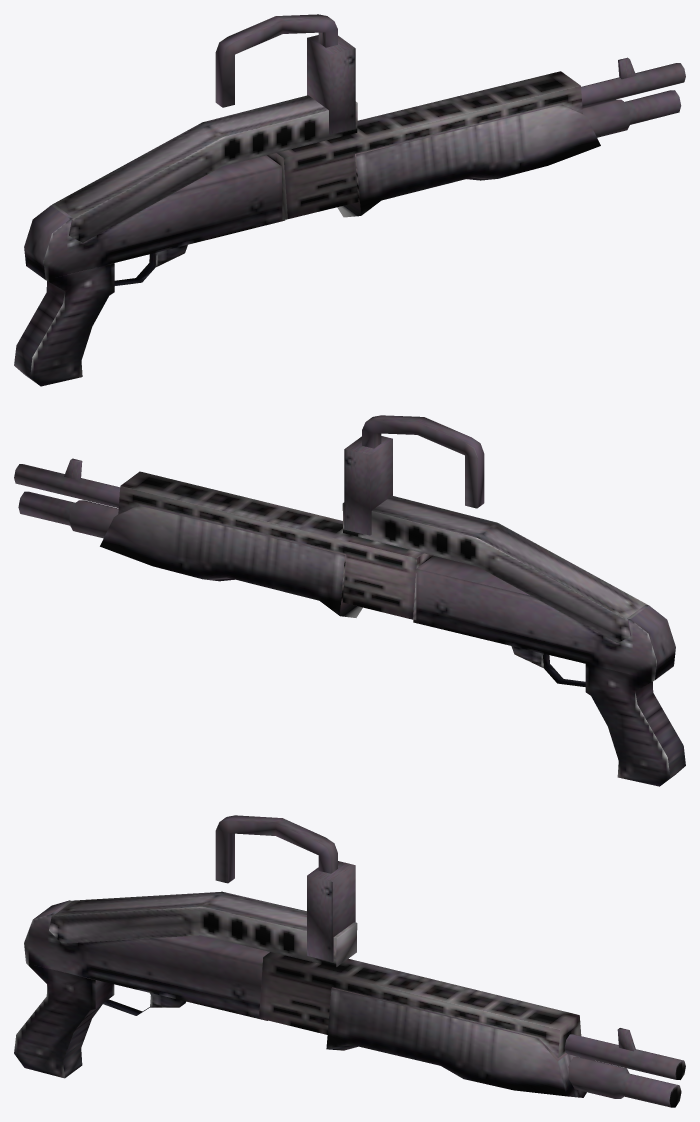
Rendered from icon1.ico.obj.
The picture shows the model from 3 angles, top to bottom: view 1: azimuth 30°, elevation 25°; view 2: azimuth 150°, elevation 25°; view 3: azimuth 330°, elevation 25°; orthographic projection.
Bounding box in the file's own units: 5 × 2.19 × 0.4502.
1 material, 1 textured.
